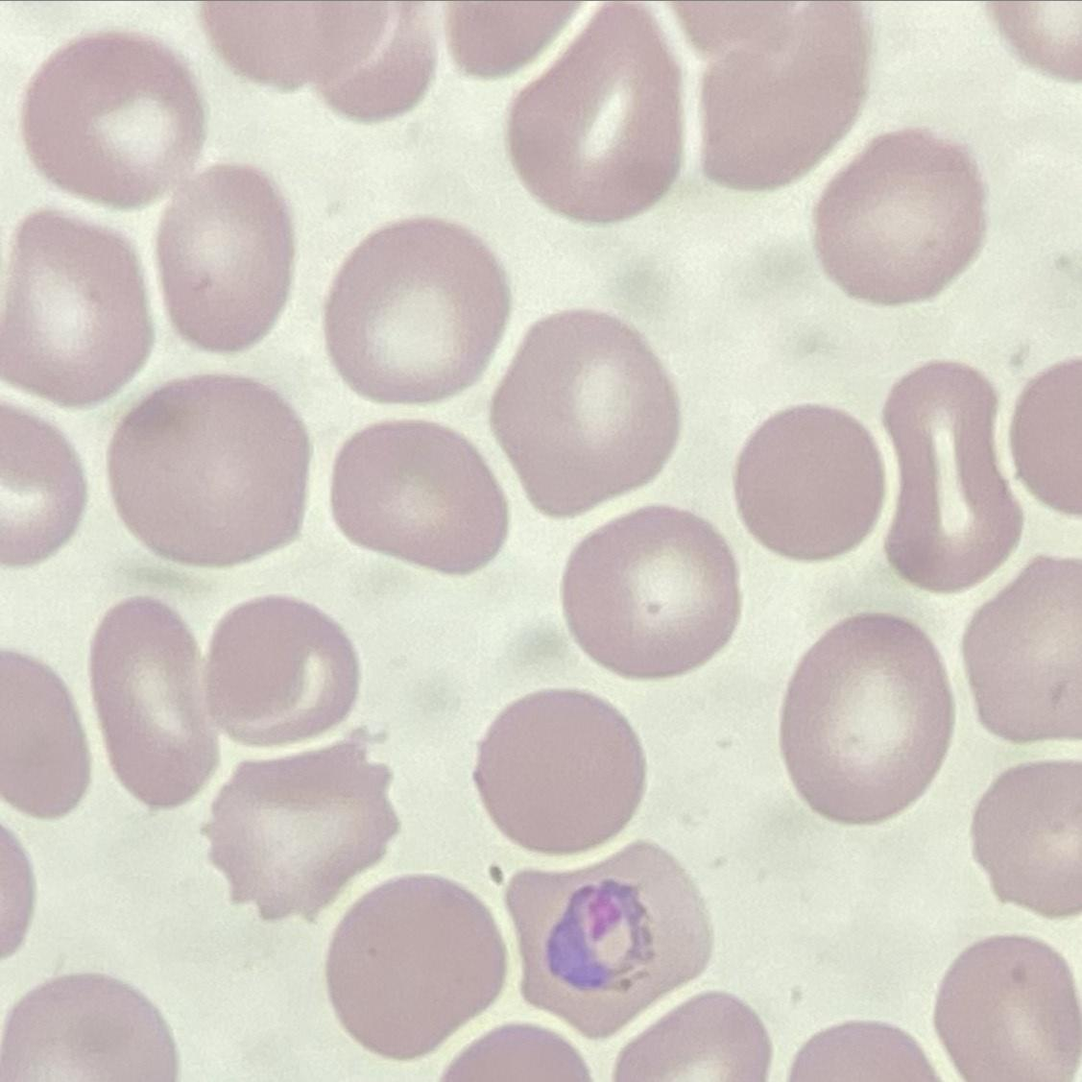Infected: (502, 843, 716, 1039)
Uninfected: (493, 308, 684, 518), (506, 1, 677, 223), (784, 609, 955, 830), (106, 379, 310, 561), (208, 737, 391, 928), (323, 215, 502, 409), (880, 359, 1027, 595), (323, 878, 505, 1062), (810, 123, 982, 309), (694, 1, 861, 185), (22, 33, 199, 206), (80, 596, 223, 806), (570, 500, 733, 680), (474, 692, 652, 853), (0, 206, 144, 405), (330, 424, 507, 573), (733, 398, 889, 565), (163, 155, 289, 356), (195, 596, 357, 744), (934, 929, 1082, 1082), (970, 558, 1082, 753)
